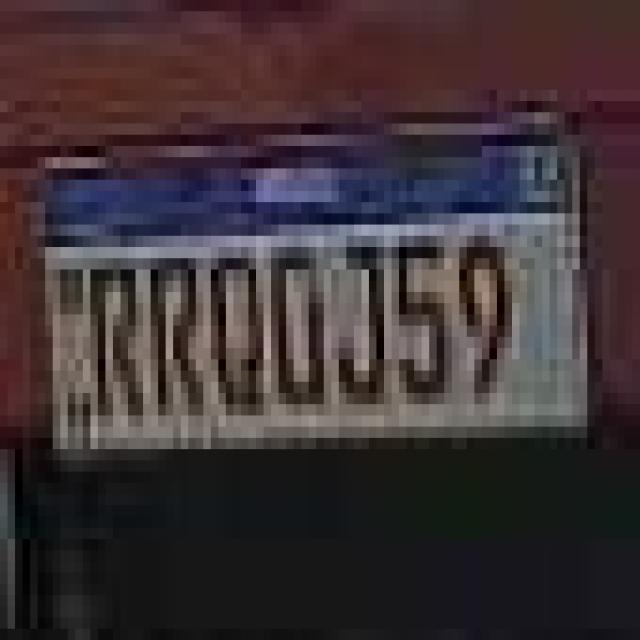0: (270, 238, 328, 414)
5: (393, 229, 452, 405)
9: (456, 224, 517, 404)
J: (334, 234, 389, 412)
Q: (212, 252, 263, 412)
R: (88, 263, 146, 427), (146, 261, 202, 418)
